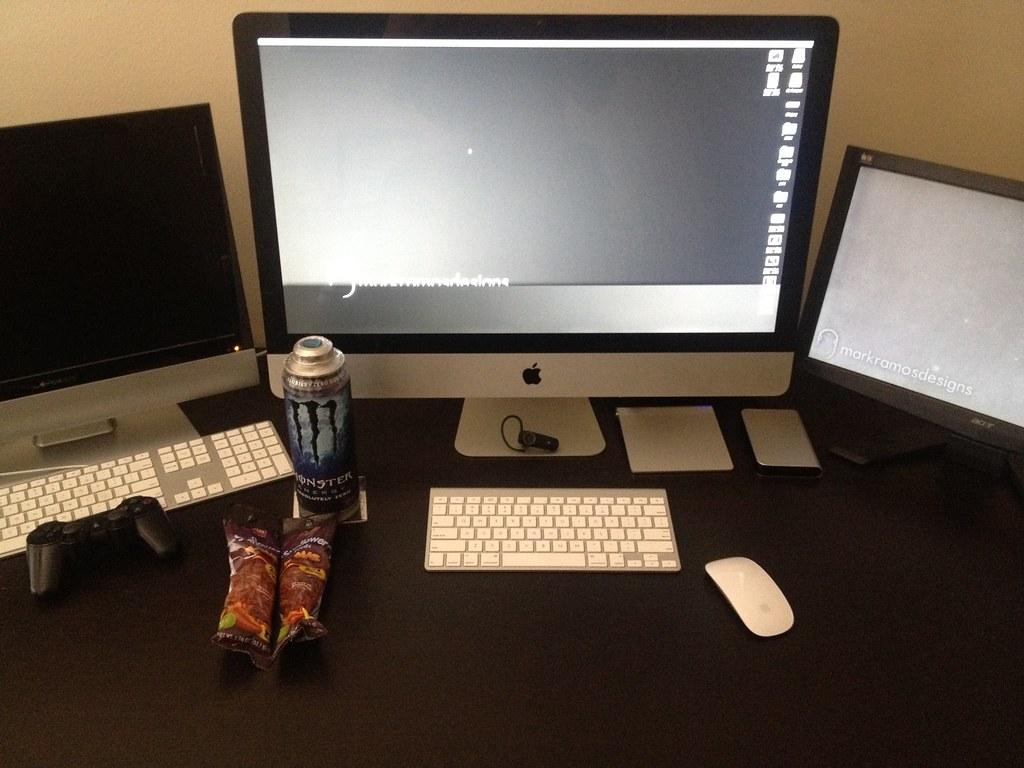computer: (232, 9, 840, 464), (1, 101, 261, 477), (795, 143, 1024, 476)
